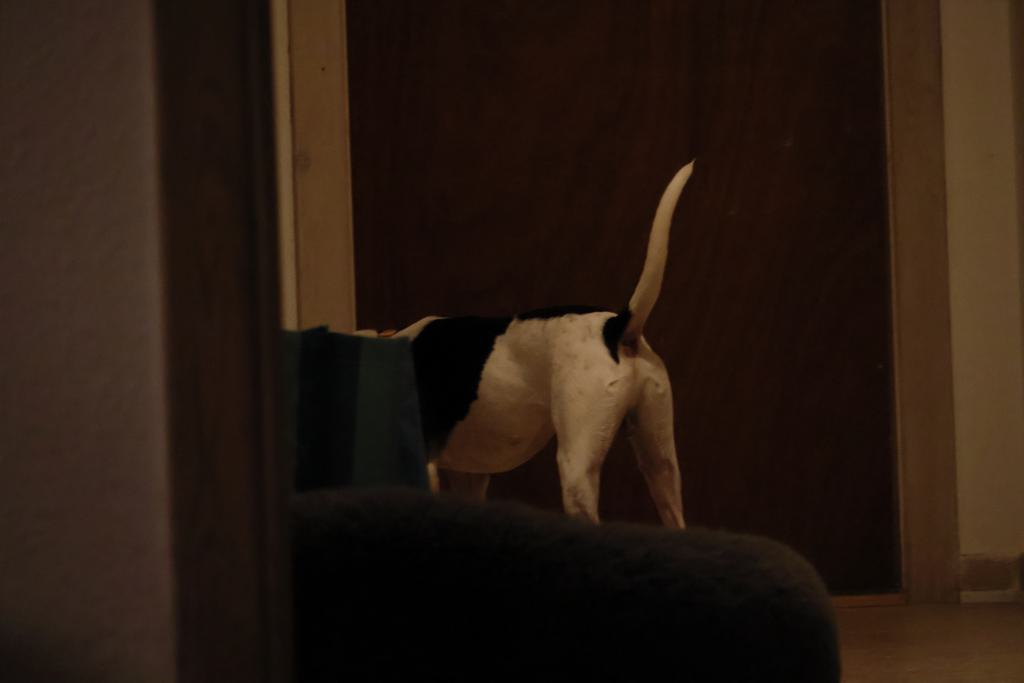Dog: (332, 147, 710, 538)
